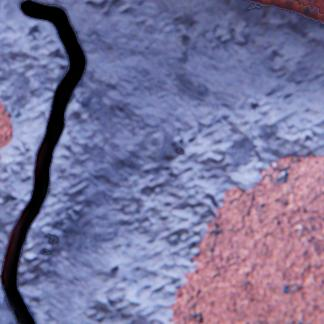brick: (168, 153, 323, 323), (247, 0, 323, 22), (0, 100, 13, 148)
crack: (0, 0, 86, 323)
